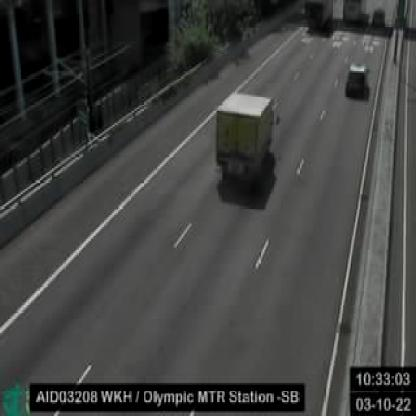Car: (343, 62, 368, 94)
Truck: (217, 90, 272, 180)
